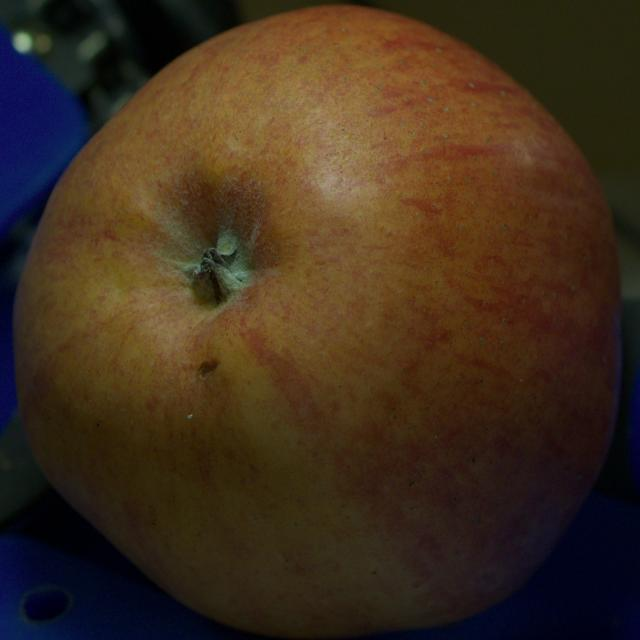apple: (14, 6, 621, 638)
pest: (198, 362, 218, 379)
